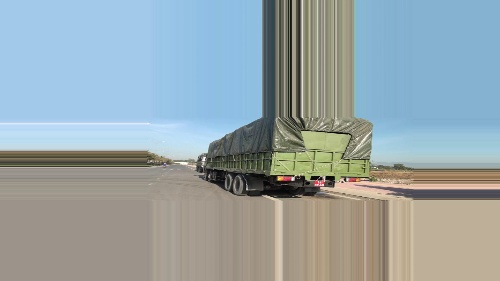plate: (313, 178, 326, 188)
